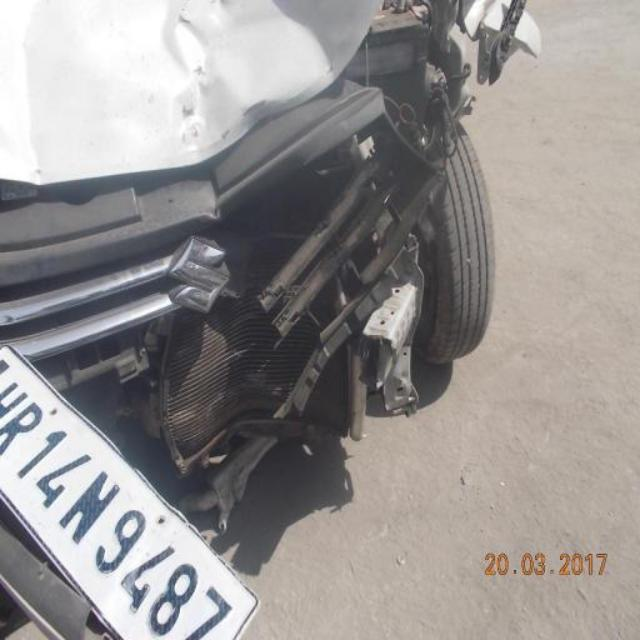dent: (172, 1, 370, 155)
no part: (0, 4, 519, 625)
